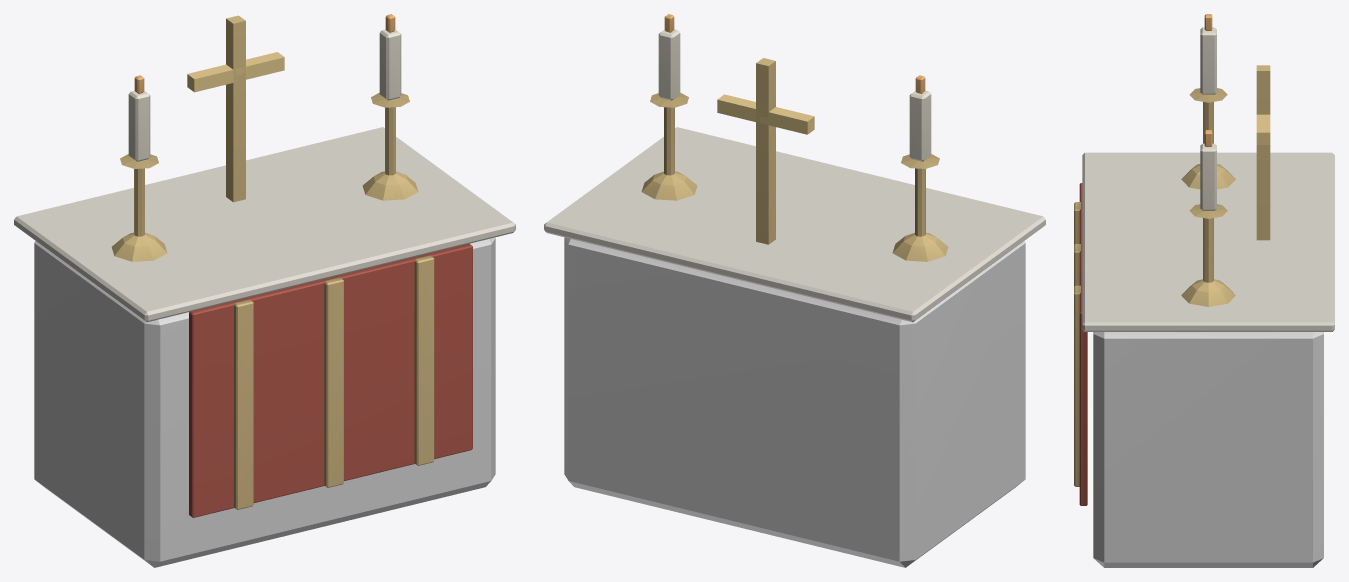
Rendered from altar.glb.
3 renders of one model, left to right at view 1: azimuth 30°, elevation 25°; view 2: azimuth 150°, elevation 25°; view 3: azimuth 270°, elevation 25°, orthographic. The views are drawn at different scales.
Parts seen in each view (by area): view 1: altar; view 2: altar; view 3: altar.
Boxes of the visible parts, bbox=[...] form: altar: bbox=[14, 14, 515, 567]; altar: bbox=[544, 14, 1045, 567]; altar: bbox=[1074, 14, 1334, 567].
Bounding box in the file's own units: 1.48 × 1.7 × 0.95.
